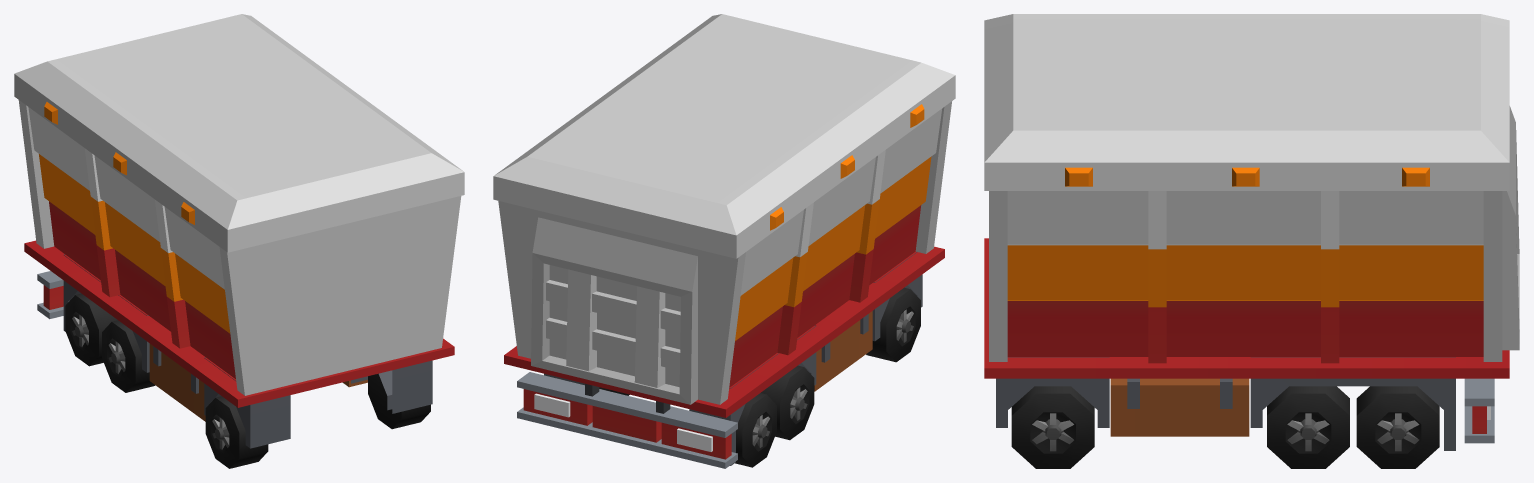
File: cargo_04_B_2.fbx
3 renders of one model, left to right at view 1: azimuth 30°, elevation 25°; view 2: azimuth 150°, elevation 25°; view 3: azimuth 270°, elevation 25°, orthographic. The views are drawn at different scales.
Visible parts, largest first — view 1: cargo_04_B_2; view 2: cargo_04_B_2; view 3: cargo_04_B_2.
Boxes of the visible parts, left/top/right/bottom form: cargo_04_B_2: left=14, top=14, right=464, bottom=468; cargo_04_B_2: left=493, top=14, right=955, bottom=468; cargo_04_B_2: left=984, top=14, right=1519, bottom=468.
Size of the model in its own units: 1604 by 1721 by 2462.
